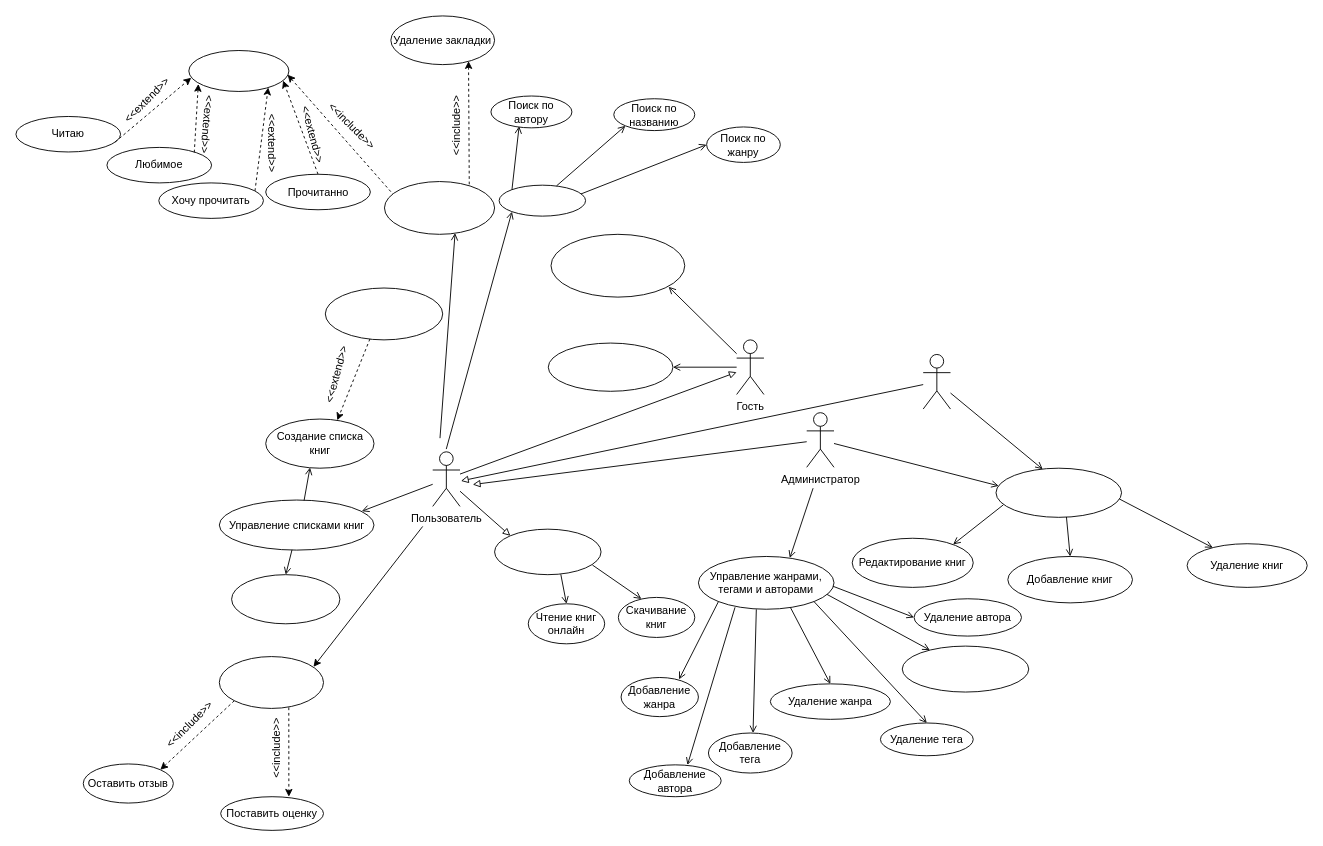
This 1323x846 diagram has some shape labels left out. The centre of each missing label's shape, as x and y in pixels:
Автор: (936,381)
Авторизация под существующим пользователем: (610,366)
Добавление закладки: (238,70)
Добавление книги в список: (383,313)
Оставление отзывов и оценок: (271,682)
Поиск книг: (542,200)
Регистрация в приложении: (617,265)
Редактирование жанра: (965,668)
Удаление списка книг: (285,599)
Управление закладками: (439,207)
Управление книгами: (1058,492)
Чтение и скачивание книг: (547,551)
